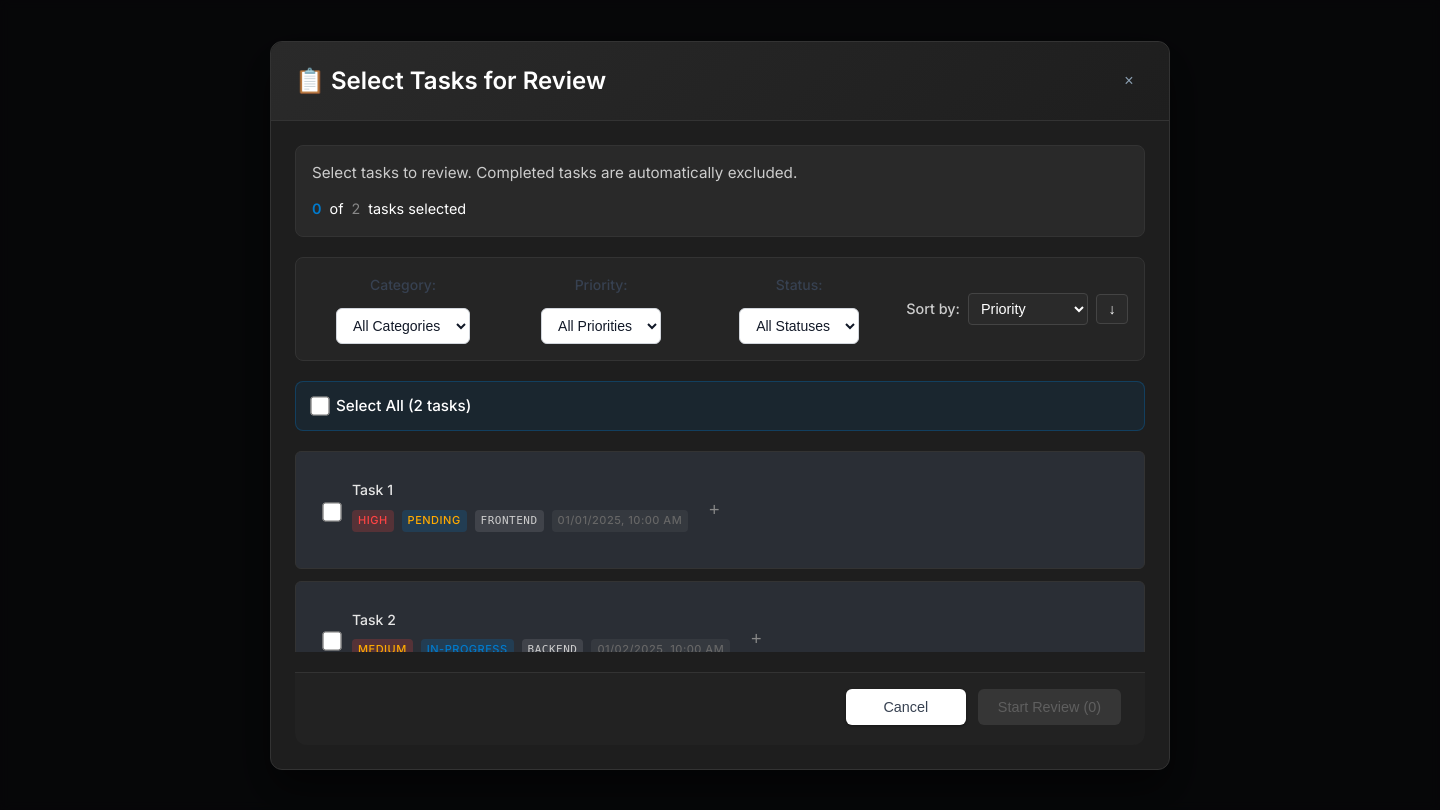
Test: TaskReviewSelectionModal › Task Expansion › allows task collapse to hide details
The width and height of the screenshot is (1440, 810).
Step 1. Click the button "+" next to "01/01/2025, 10:00 AM" → coordinates (714, 510), box [700,496,728,524]
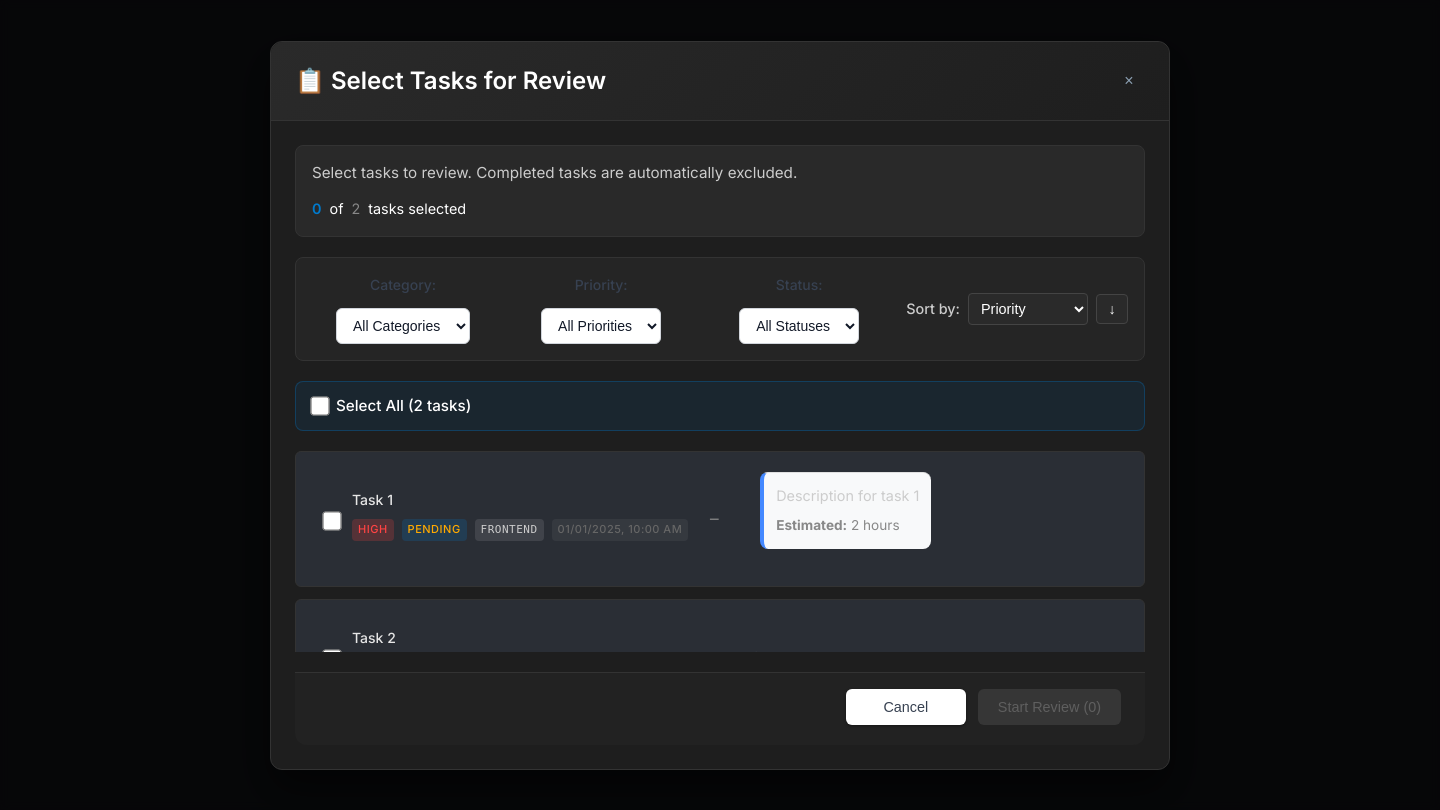
Result: the text "Description for task 1" is shown at [776,485,919,507]
Note: Click again to collapse
Step 2. Click the button "−" → coordinates (714, 519), box [700,505,728,533]
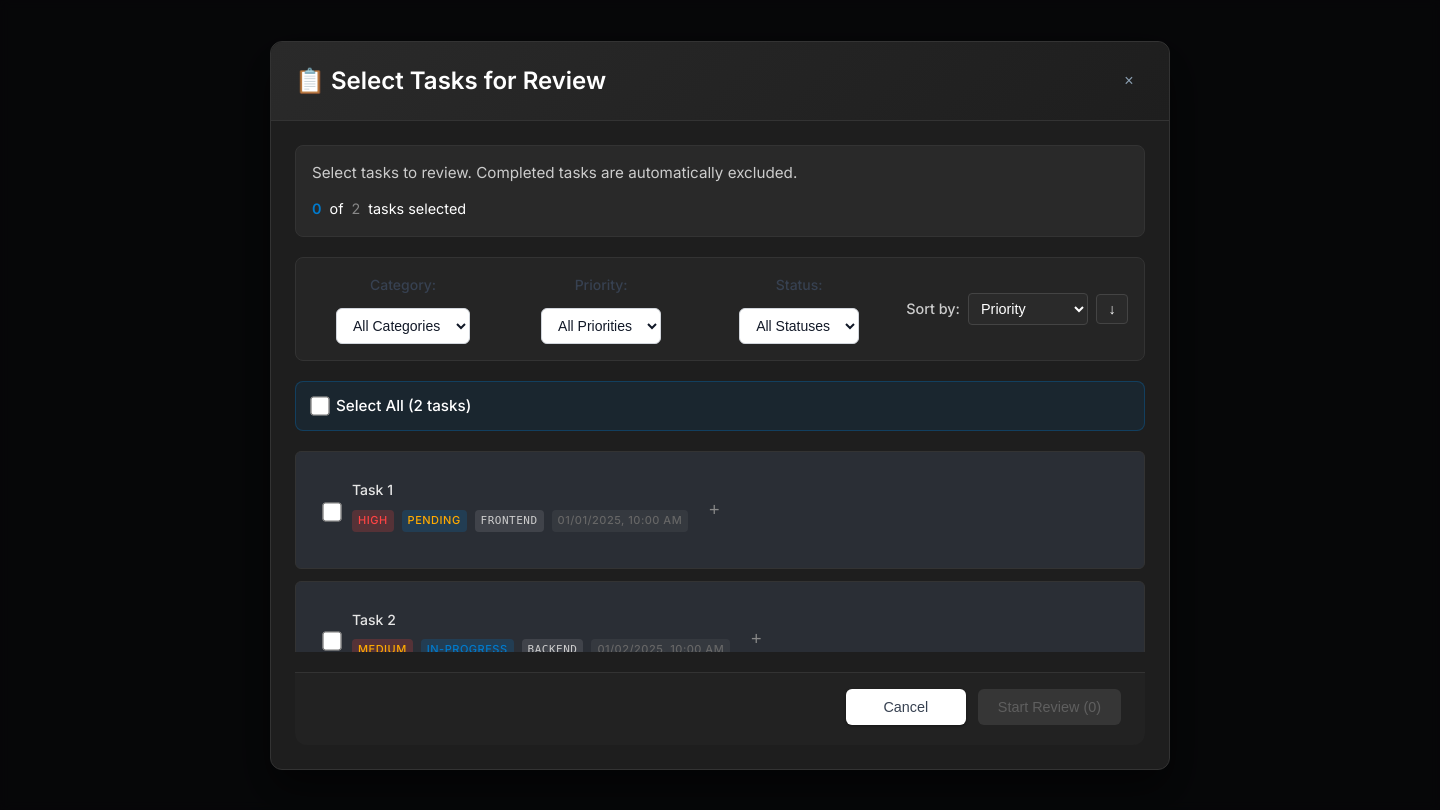
Result: the text "Description for task 1" is gone
